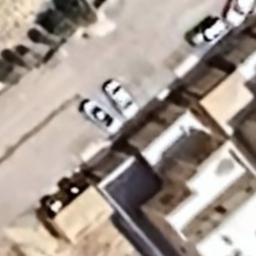SUV: (225, 1, 256, 23)
sedan: (102, 80, 144, 120), (80, 98, 126, 134), (188, 16, 228, 48)
